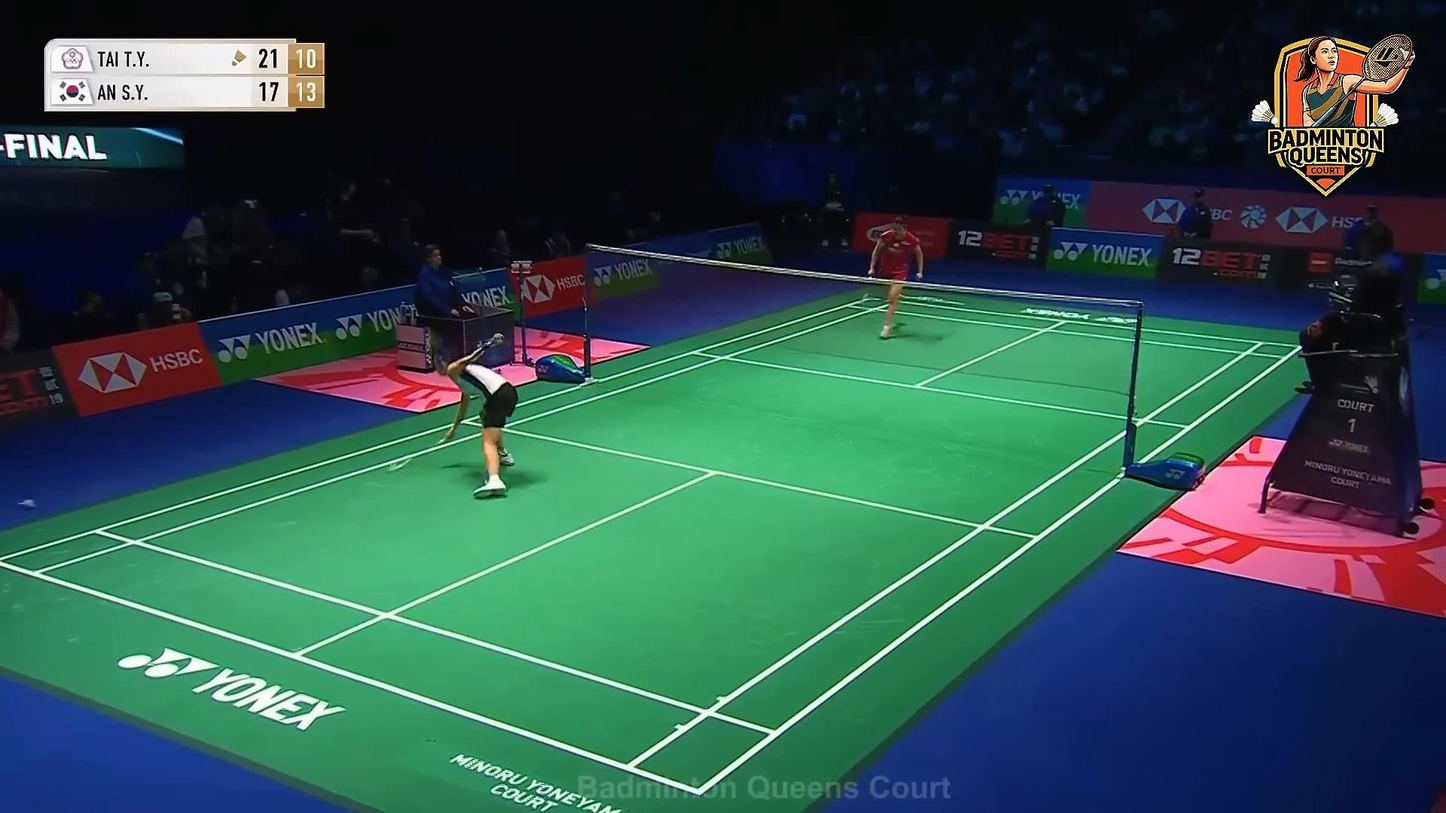player: (433, 330, 520, 500), (867, 214, 925, 341)
shuttlecock: (18, 496, 39, 510)
